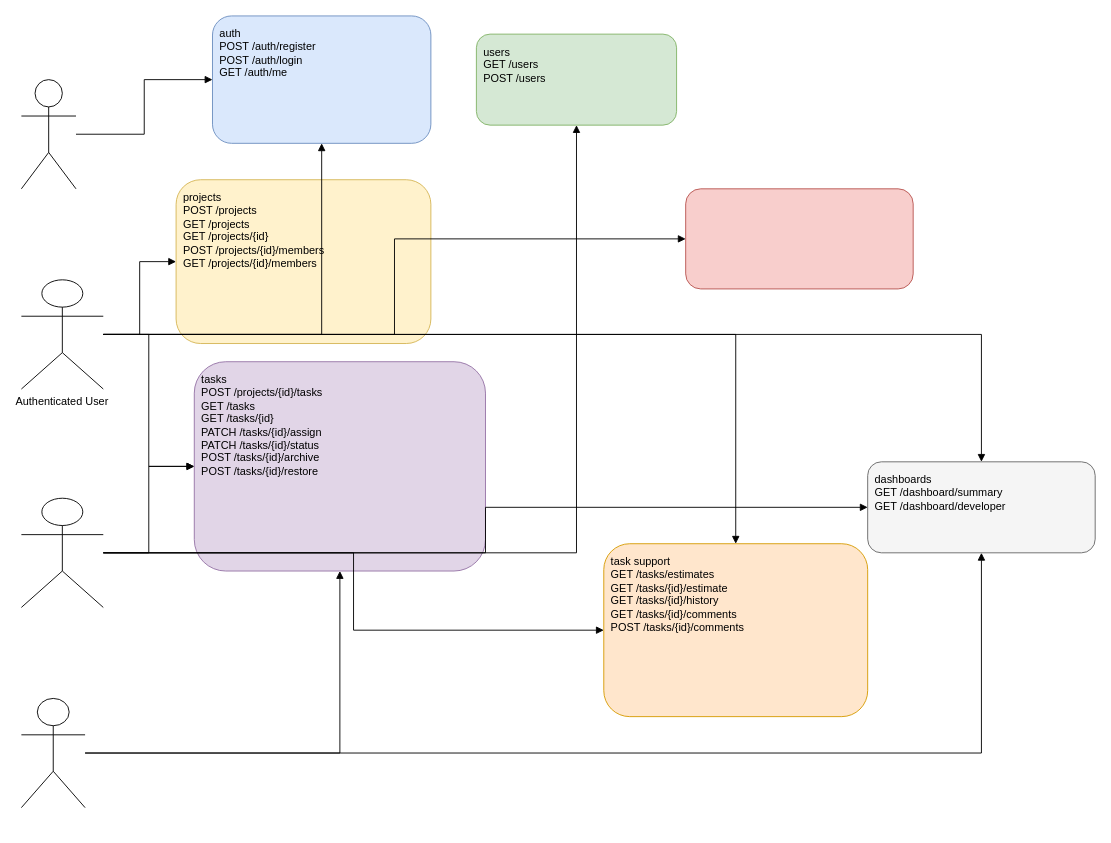
The diagram is 1111 pixels wide and 843 high, and some of its shapes have lost their labels. The centre of each missing label's shape, as x and y in pixels:
Developer: (52,753)
Guest: (48,134)
Manager / Admin: (61,552)
sprints POST /projects/{id}/sprints GET /projects/{id}/sprints: (799,238)
